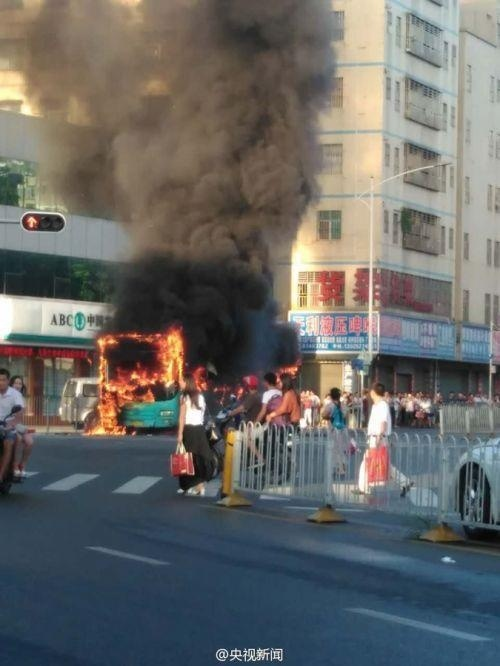fire: (88, 327, 197, 436)
